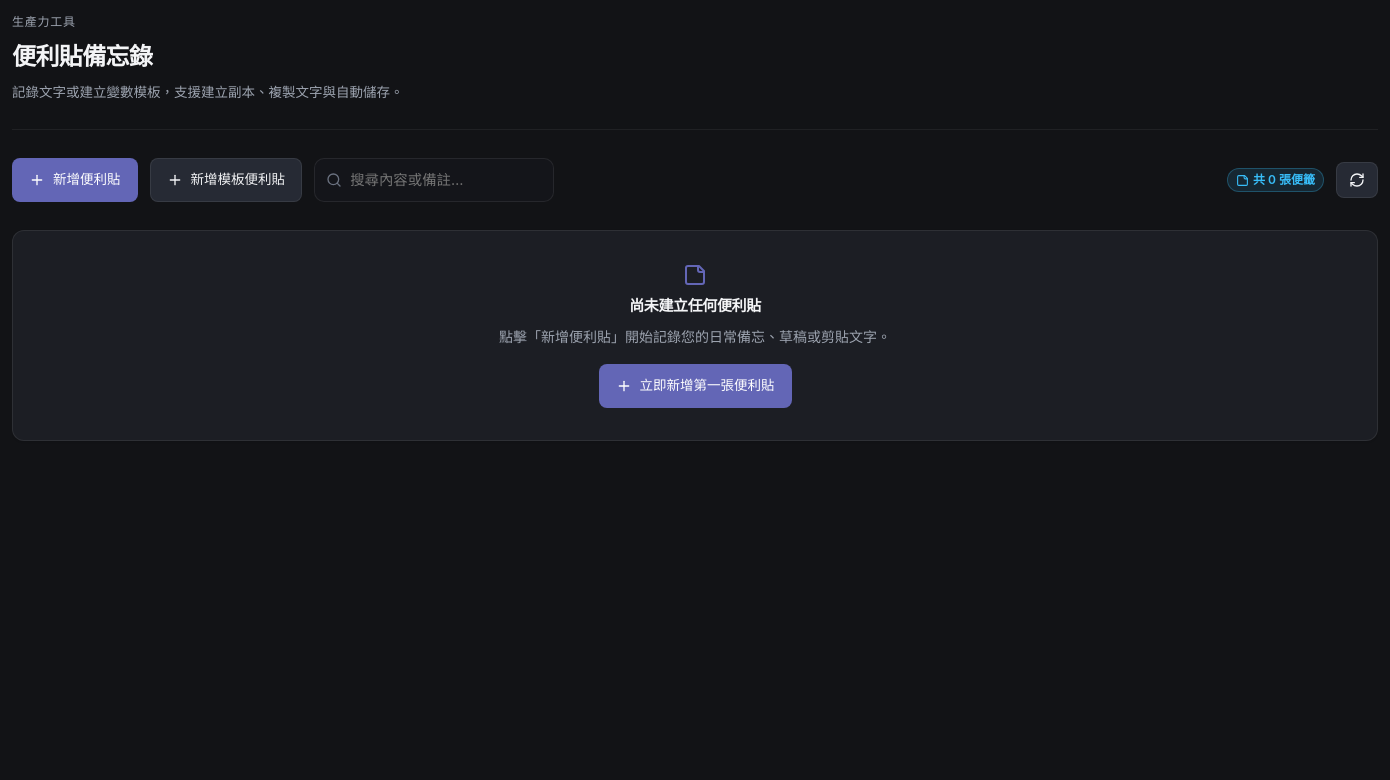
it: StickyNotesPage › creates a new note when clicking add button
Expected: the heading "尚未建立任何便利貼" is shown, [629,295,761,318]
Click the button "新增便利貼": (75, 180) [12,158,138,202]
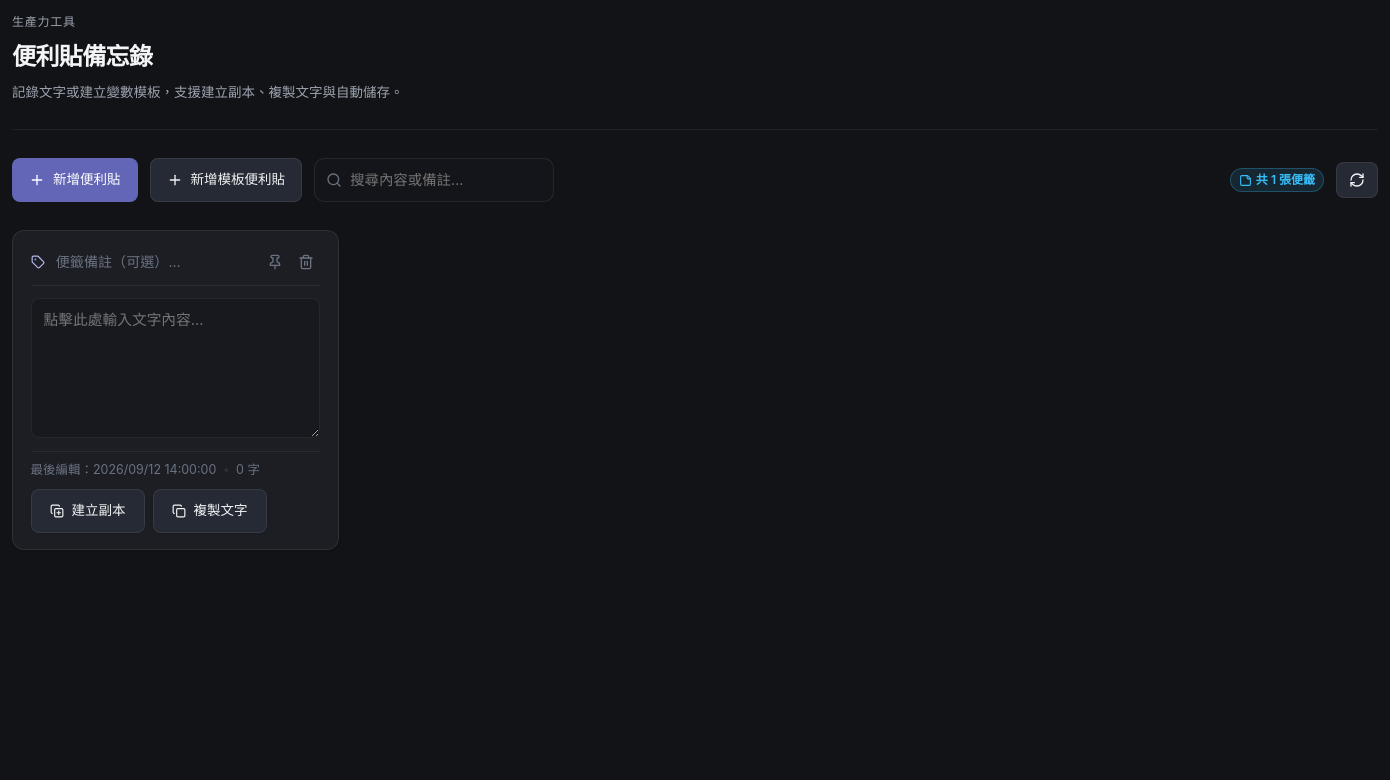
Expected: the text "共 1 張便籤" is shown, [1256,172,1315,188]
